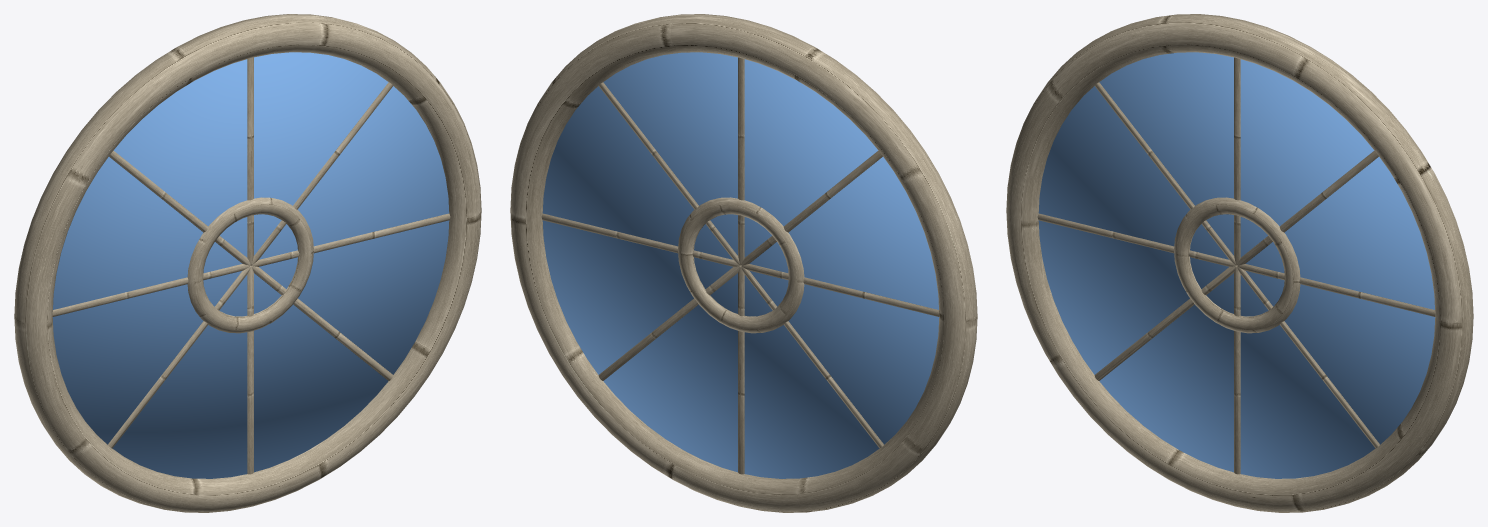
File: rose_window.glb
3 views of the same model, side by side, from view 1: azimuth 30°, elevation 25°; view 2: azimuth 150°, elevation 25°; view 3: azimuth 330°, elevation 25° (orthographic).
Parts seen in each view (by area): view 1: rosacea; view 2: rosacea; view 3: rosacea.
Boxes of the visible parts, x1,y1,x2,y2 form: rosacea: (14,14,481,512); rosacea: (510,14,977,512); rosacea: (1006,14,1473,512).
Bounding box in the file's own units: 1.25 × 1.25 × 0.0877.
Materials: 6 (1 with a texture image).
